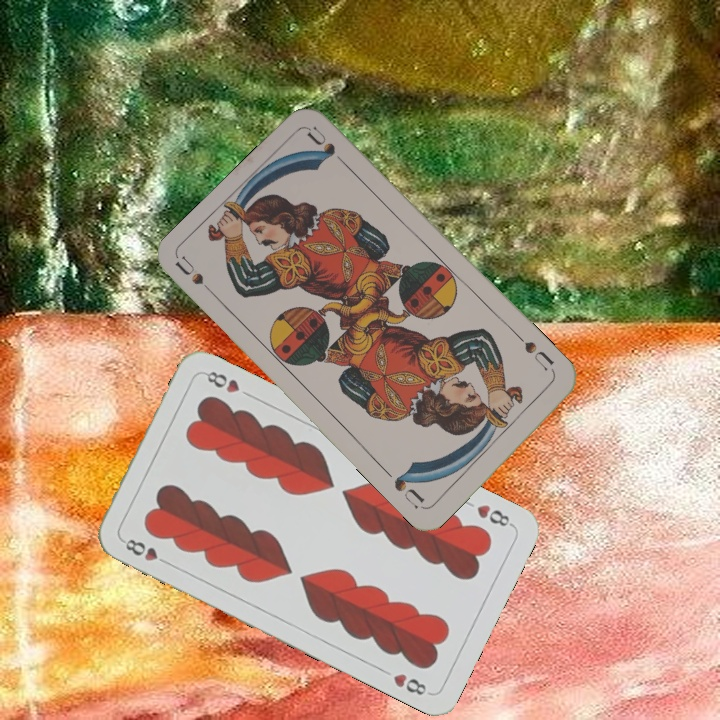H8: (118, 535, 173, 568), (472, 500, 516, 530)
SU: (172, 253, 222, 302), (520, 337, 558, 379)
